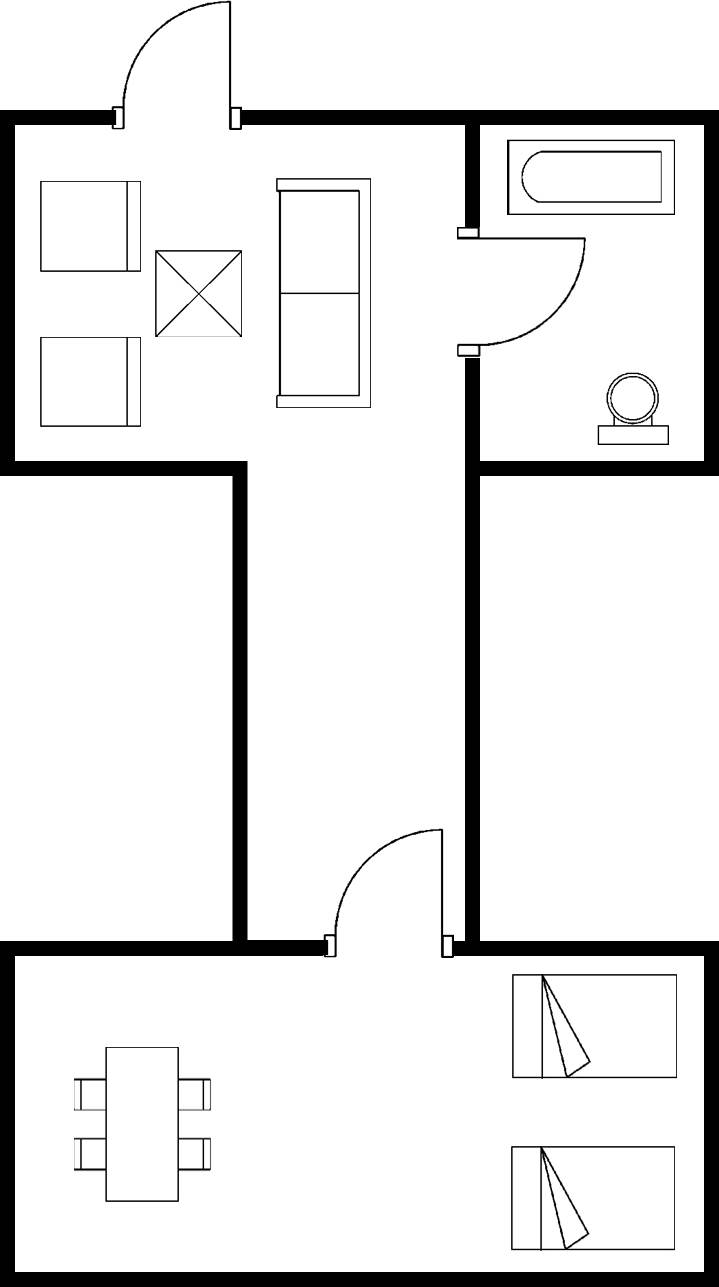bed: (502, 963, 687, 1092), (499, 1133, 685, 1259)
coffee_table: (150, 246, 252, 344)
dining_table: (66, 1037, 217, 1209)
large_sink: (590, 364, 674, 456)
large_sofa: (267, 172, 376, 417)
small_sofa: (32, 329, 149, 433), (32, 176, 149, 279)
tub: (499, 132, 681, 222)
